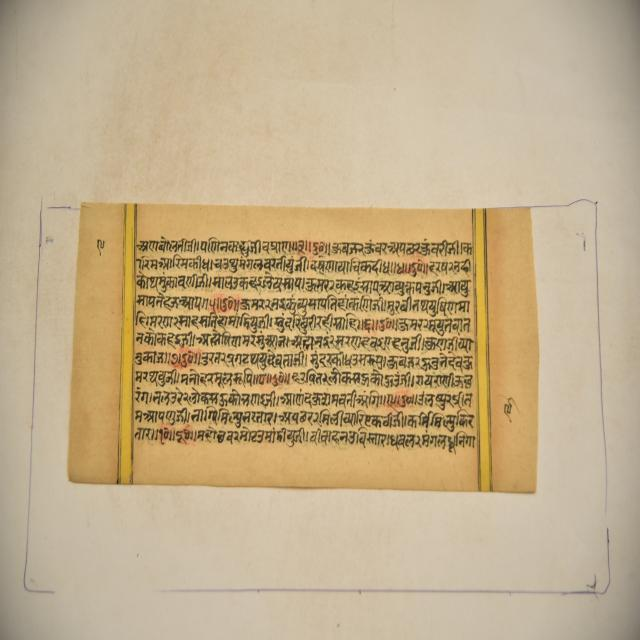text_paragraph: (68, 201, 536, 491)
